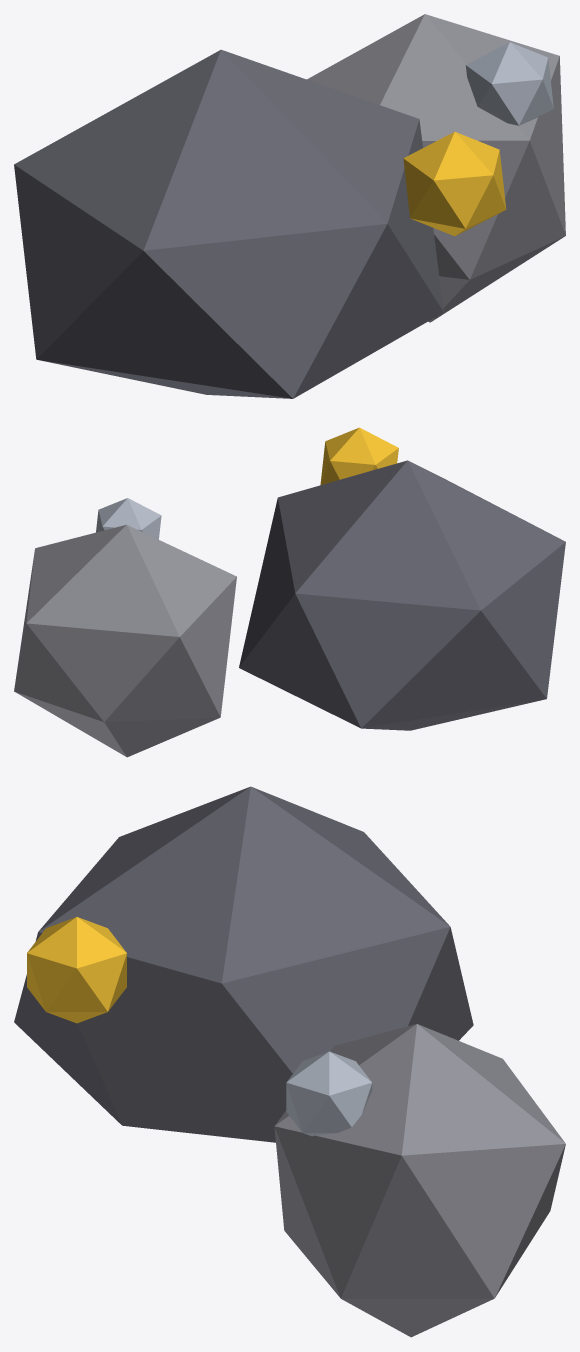
Rendered from ore_rocks.glb.
The picture shows the model from 3 angles, top to bottom: view 1: azimuth 30°, elevation 25°; view 2: azimuth 150°, elevation 25°; view 3: azimuth 270°, elevation 25°; orthographic projection. The views are drawn at different scales.
Parts seen in each view (by area): view 1: ore_rocks; view 2: ore_rocks; view 3: ore_rocks.
Part boxes in pixels (bbox=[...]): ore_rocks: bbox=[14, 14, 565, 398]; ore_rocks: bbox=[14, 427, 565, 757]; ore_rocks: bbox=[14, 786, 565, 1337].
Bounding box in the file's own units: 0.8331 × 0.5353 × 0.6563.
